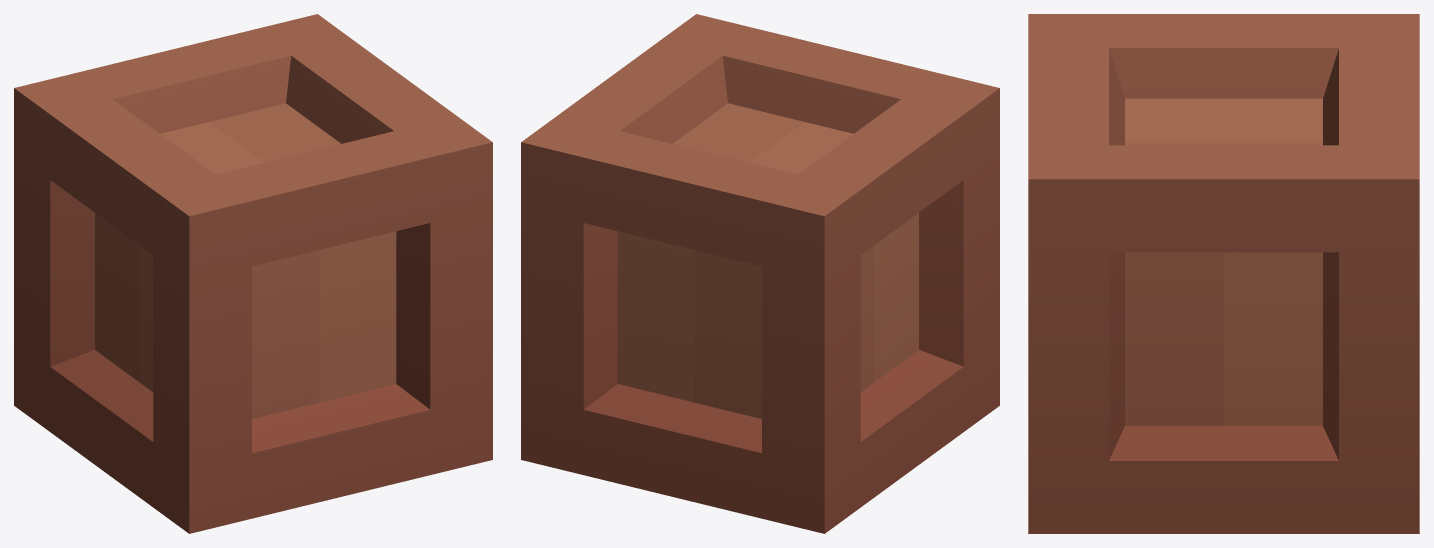
Rendered from crate_A_small.gltf.
3 views of the same model, side by side, from view 1: azimuth 30°, elevation 25°; view 2: azimuth 150°, elevation 25°; view 3: azimuth 270°, elevation 25° (orthographic). The views are drawn at different scales.
Parts seen in each view (by area): view 1: crate_A_small; view 2: crate_A_small; view 3: crate_A_small.
Boxes of the visible parts, x1,y1,x2,y2 form: crate_A_small: (14,14,492,533); crate_A_small: (521,14,999,533); crate_A_small: (1028,14,1419,533).
Size of the model in its own units: 0.14 by 0.14 by 0.14.
Materials: 1 (1 with a texture image).
